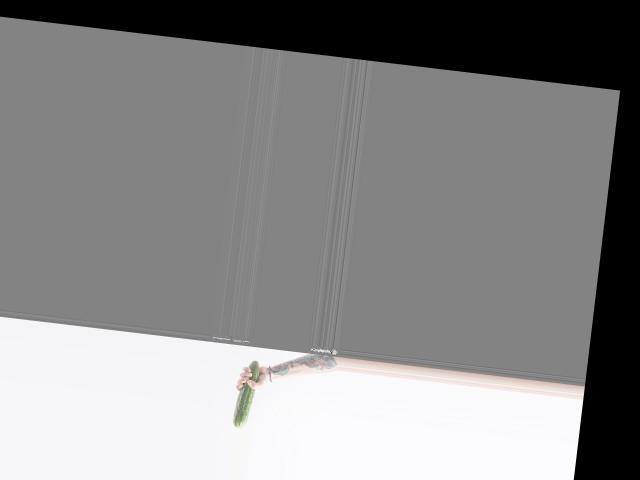cucumber: (231, 359, 259, 429)
